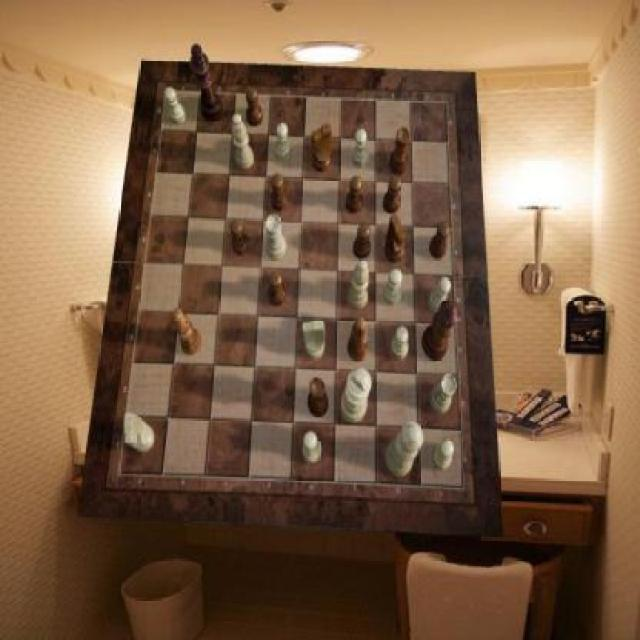bishop: (174, 309, 201, 357), (348, 317, 368, 362)
black-bishop: (190, 45, 224, 122)
black-king: (386, 214, 406, 263), (312, 123, 332, 172)
black-knight: (429, 222, 450, 259), (383, 177, 401, 215), (246, 88, 263, 128), (270, 174, 288, 211), (230, 220, 248, 256), (268, 271, 287, 305), (346, 175, 363, 213), (354, 224, 371, 260)
black-pawn: (422, 298, 459, 361)
black-queen: (391, 129, 411, 177), (308, 378, 328, 418)
black-rook: (232, 114, 255, 168), (346, 260, 369, 311)
white-bishop: (340, 368, 372, 424)
white-king: (124, 414, 156, 454), (303, 320, 326, 360)
white-knight: (164, 86, 186, 125), (428, 277, 450, 311), (432, 440, 455, 472), (383, 270, 402, 306), (303, 431, 323, 463), (276, 123, 292, 162), (352, 129, 368, 168), (391, 325, 408, 359)
white-pawn: (385, 422, 422, 478)
white-queen: (430, 374, 458, 414), (266, 215, 287, 261)
